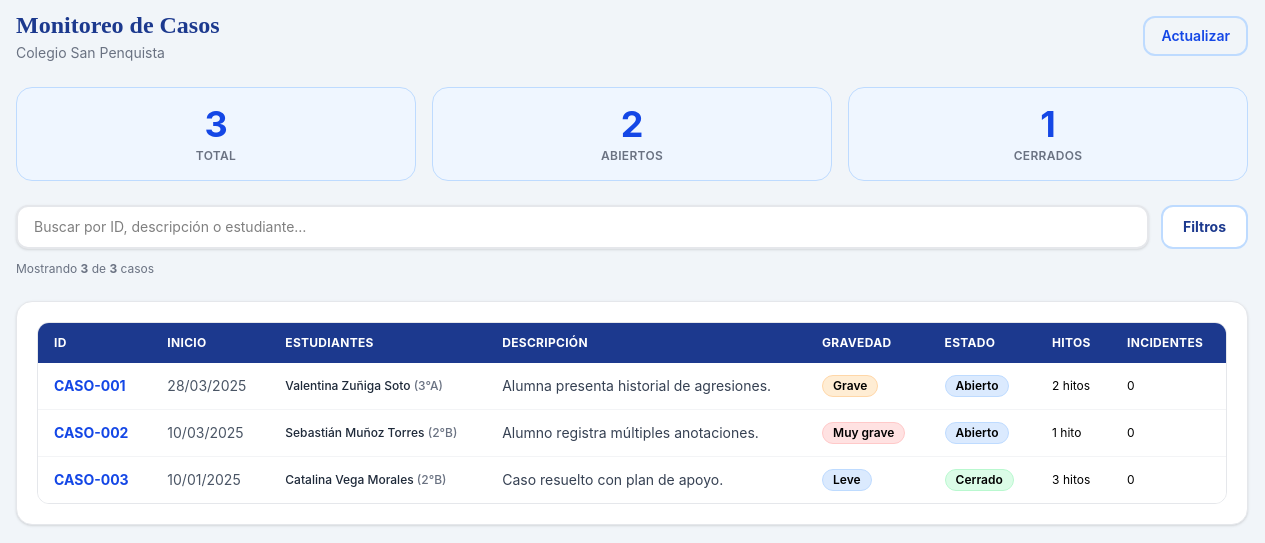
Test case: T12.2 Crear vista de monitoreo de casos › 5. la búsqueda libre filtra por ID, descripción o nombre de estudiante
Type "Valentina" into the field with placeholder "Buscar por ID, descripción o estudiante…" at point(583, 227), box [16,205,1149,249]
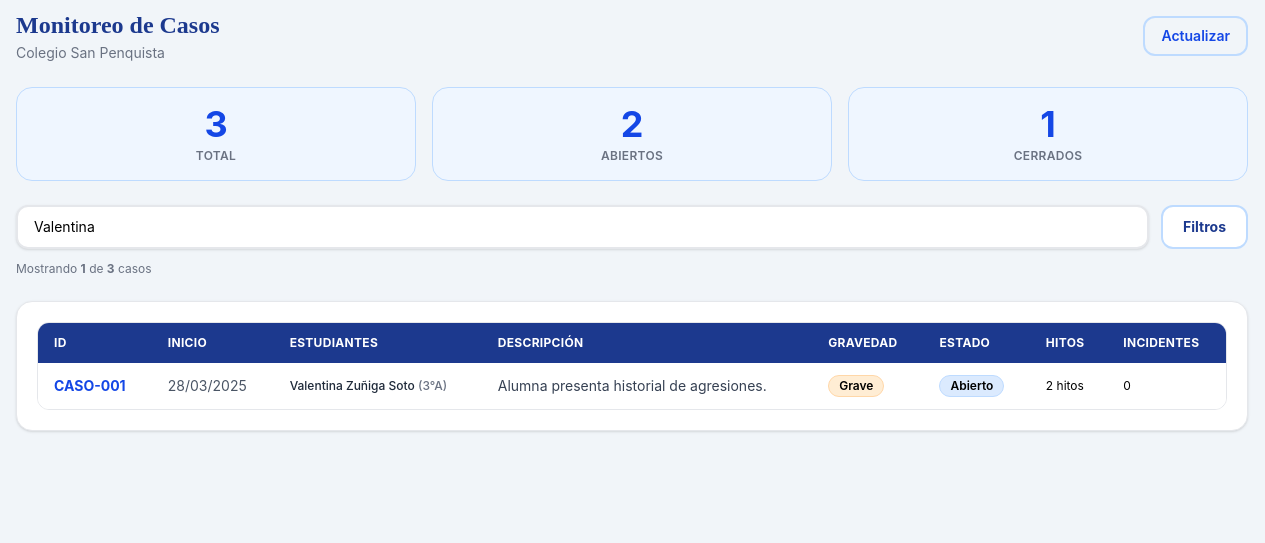
Expected: the text "CASO-001" is shown, [38,363,152,409]
Expected: the text "CASO-002" is gone
Replace the text in the field with placeholder "Buscar por ID, descripción o estudiante…" with "plan de apoyo" at point(583, 227), box [16,205,1149,249]
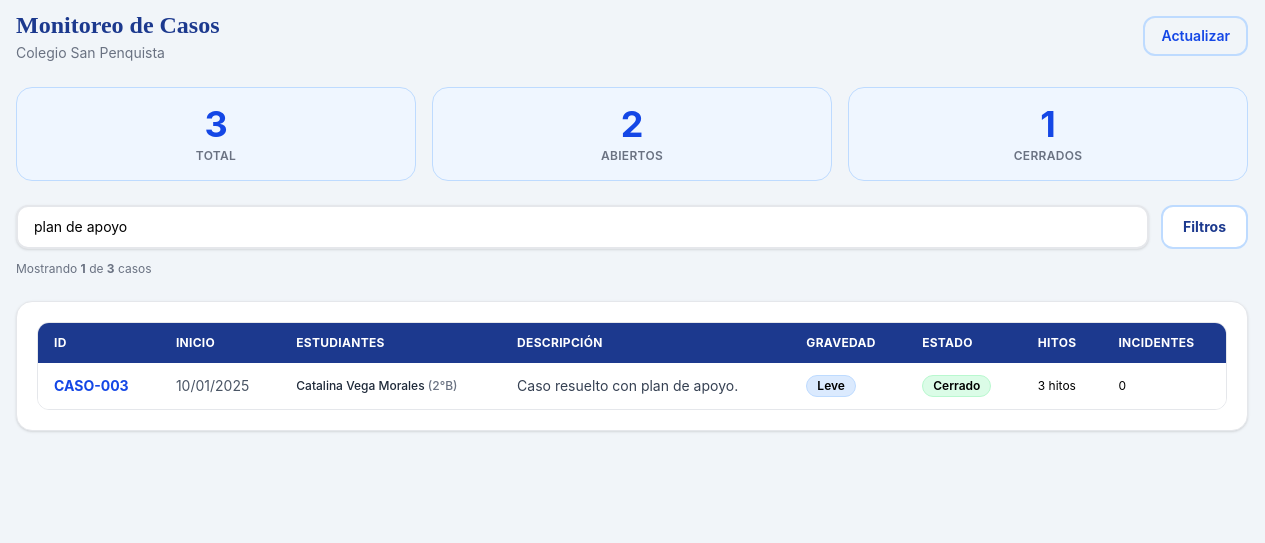
Expected: the text "CASO-003" is shown, [38,363,160,409]
Expected: the text "CASO-001" is gone
Replace the text in the field with placeholder "Buscar por ID, descripción o estudiante…" with "CASO-002" at point(583, 227), box [16,205,1149,249]
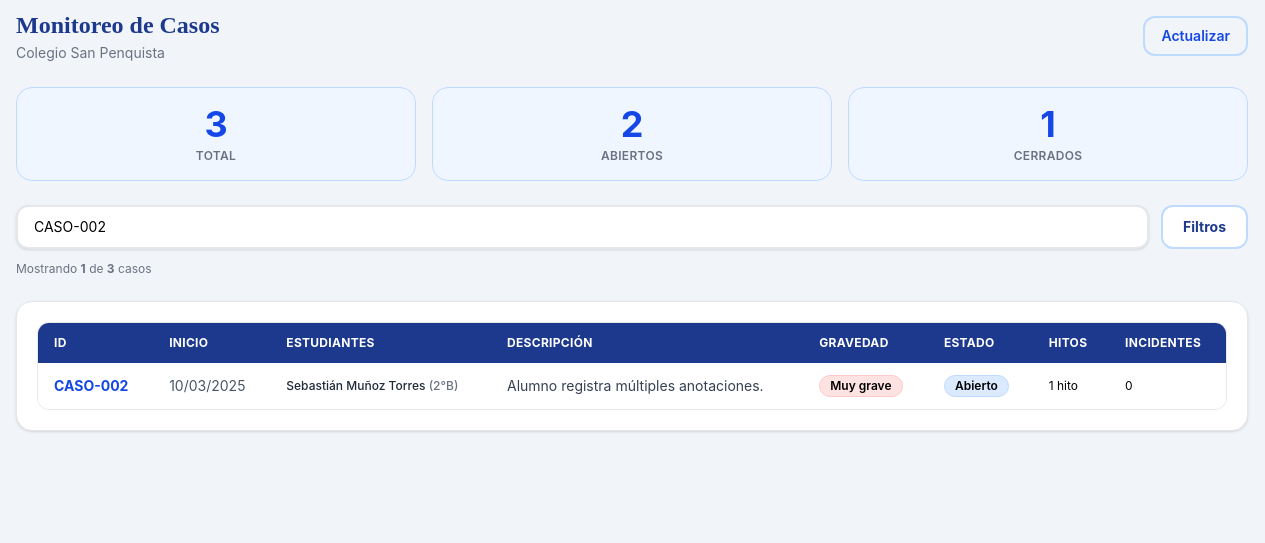
Expected: the text "CASO-001" is not shown
Expected: the text "CASO-002" is shown, [38,363,153,409]
